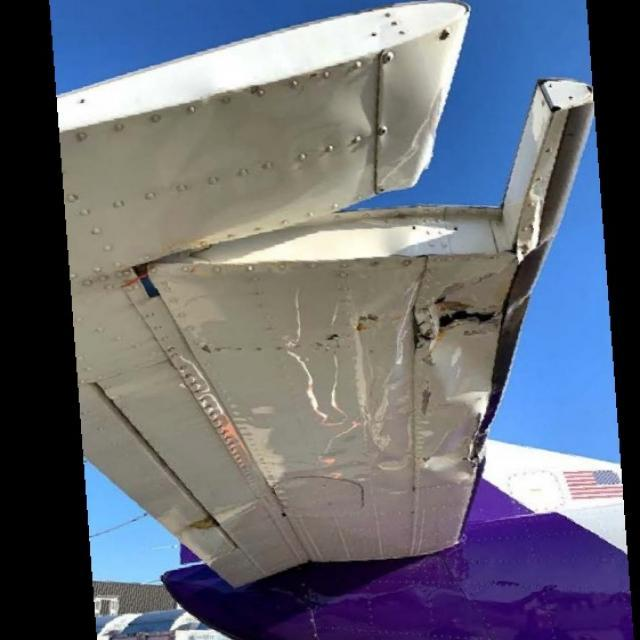dent: (421, 440, 486, 482)
